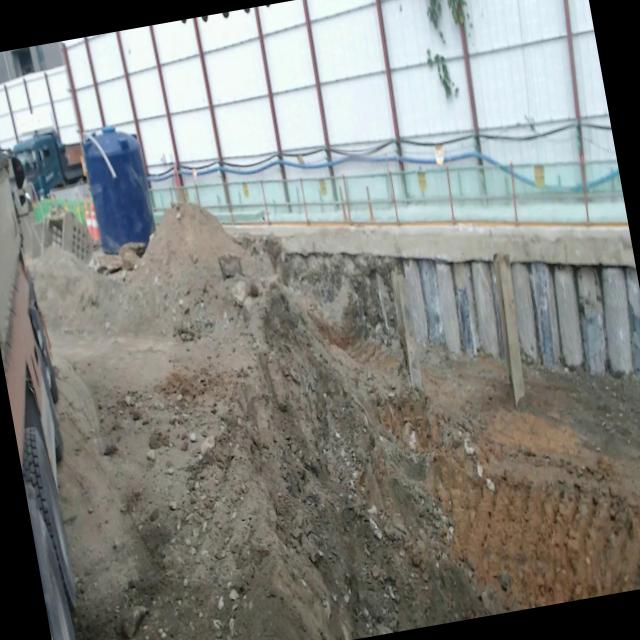cement: (223, 222, 635, 266)
red-sand: (37, 205, 640, 640)
